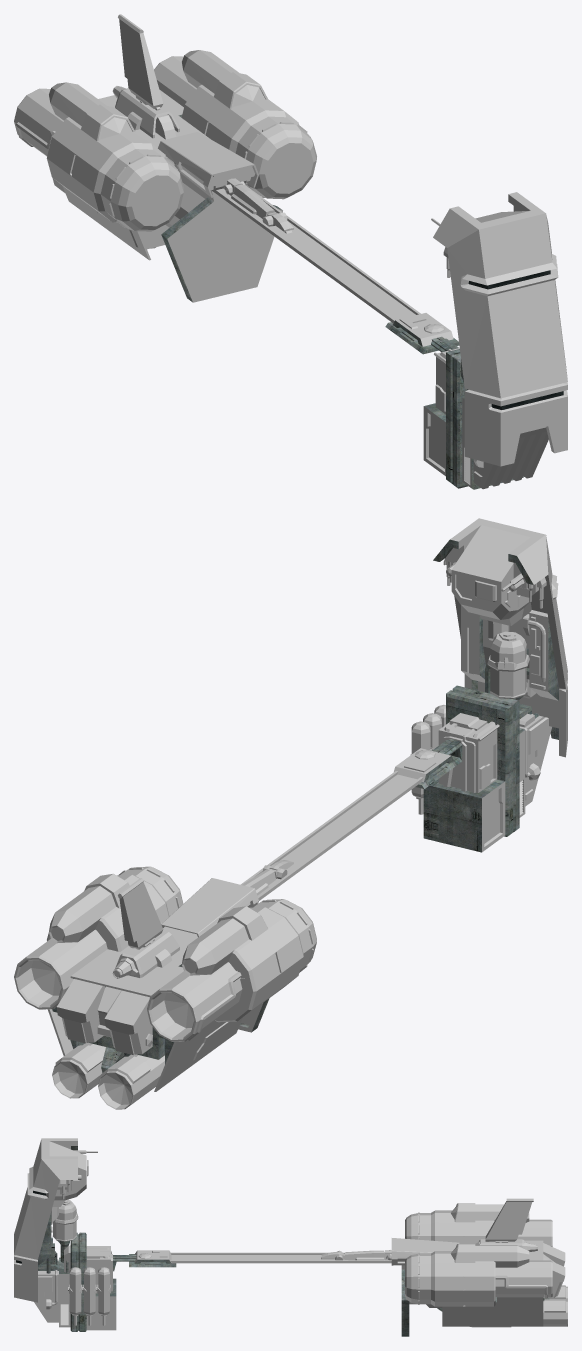
Rendered from cargo_freighter_l0.fbx.
3 renders of one model, top to bottom at view 1: azimuth 30°, elevation 25°; view 2: azimuth 150°, elevation 25°; view 3: azimuth 270°, elevation 25°, orthographic. The views are drawn at different scales.
Visible parts, largest first — view 1: mesh_node; view 2: mesh_node; view 3: mesh_node.
Part boxes in pixels (left/top/right/bottom): mesh_node: left=14, top=14, right=567, bottom=489; mesh_node: left=14, top=518, right=567, bottom=1109; mesh_node: left=14, top=1138, right=567, bottom=1336.
Size of the model in its own units: 28.13 by 36.3 by 102.
